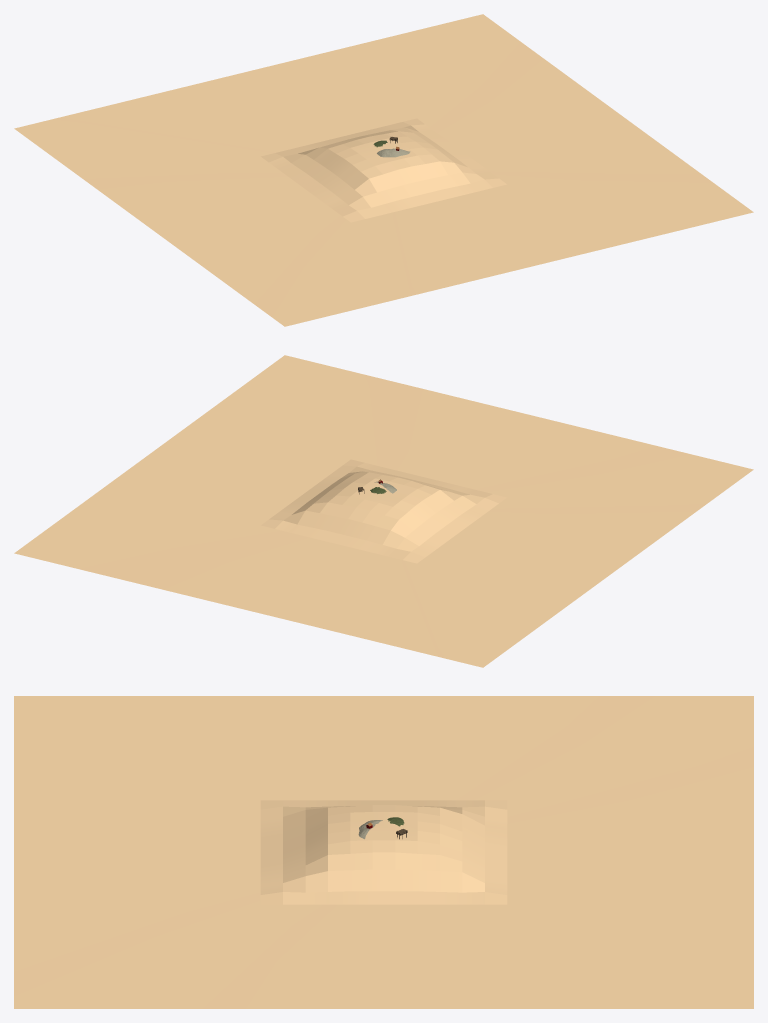
The model's file is Combined Mesh (root_ scene) 4_0.glb.
3 renders of one model, top to bottom at view 1: azimuth 30°, elevation 25°; view 2: azimuth 150°, elevation 25°; view 3: azimuth 270°, elevation 25°, orthographic. The views are drawn at different scales.
Parts seen in each view (by area): view 1: Combined Mesh (root_ scene) 4_0; view 2: Combined Mesh (root_ scene) 4_0; view 3: Combined Mesh (root_ scene) 4_0.
Part boxes in pixels (x1,y1,x2,y2): Combined Mesh (root_ scene) 4_0: (14, 14, 753, 326); Combined Mesh (root_ scene) 4_0: (14, 355, 753, 667); Combined Mesh (root_ scene) 4_0: (14, 696, 753, 1008).
Bounding box in the file's own units: 600 × 31.3 × 600.
1 material, 1 textured.
